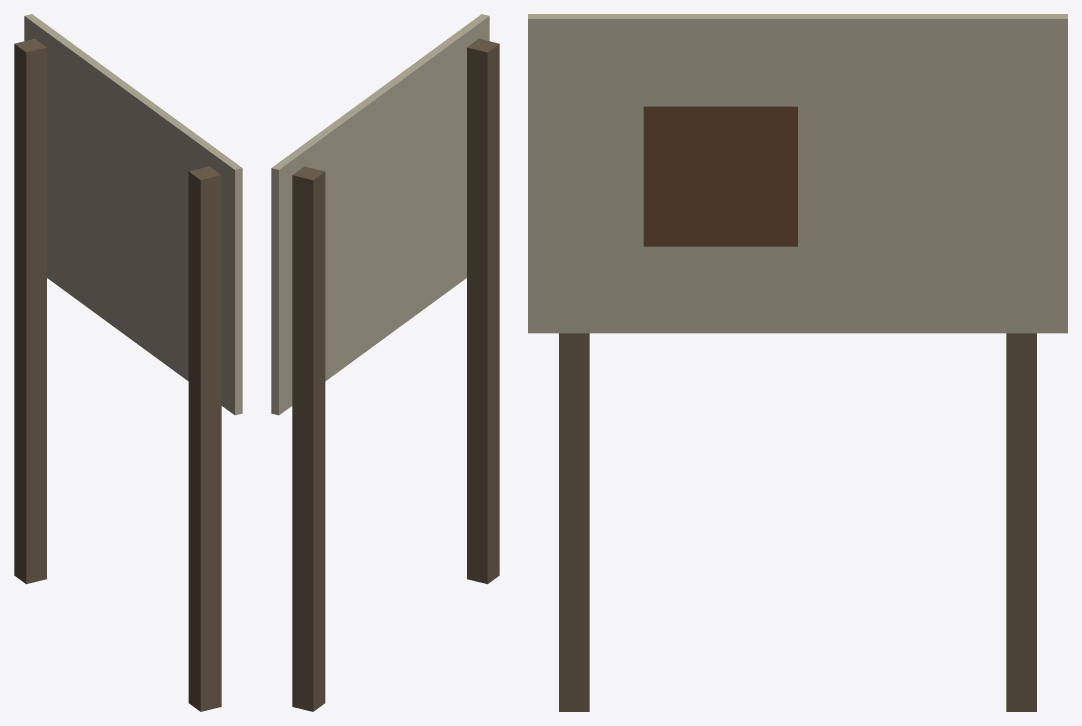
Rendered from SM_Prop_road_cafesign_0_LOD2.glb.
The picture shows the model from 3 angles, left to right: view 1: azimuth 30°, elevation 25°; view 2: azimuth 150°, elevation 25°; view 3: azimuth 270°, elevation 25°; orthographic projection. The views are drawn at different scales.
Parts seen in each view (by area): view 1: SM_Prop_road_cafesign_0_LOD2; view 2: SM_Prop_road_cafesign_0_LOD2; view 3: SM_Prop_road_cafesign_0_LOD2.
Boxes of the visible parts, <box> form: SM_Prop_road_cafesign_0_LOD2: <box>14,14,242,711</box>; SM_Prop_road_cafesign_0_LOD2: <box>271,14,499,711</box>; SM_Prop_road_cafesign_0_LOD2: <box>528,14,1067,711</box>.
Bounding box in the file's own units: 0.12 × 2 × 1.4.
